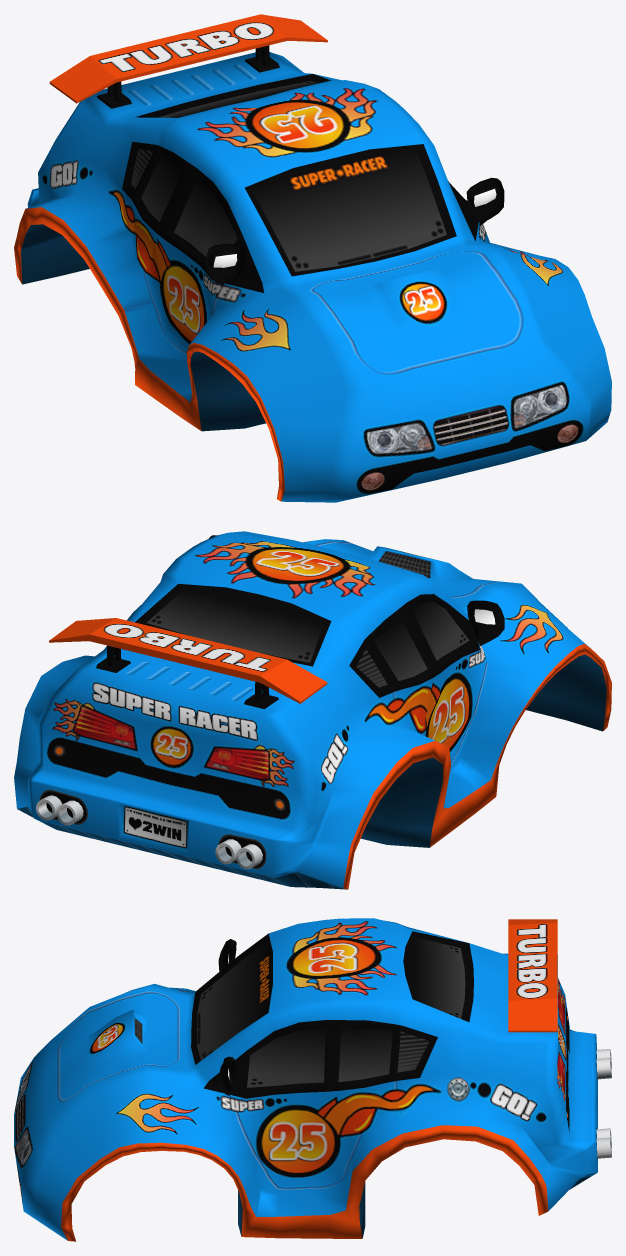
The model's file is tooncar.FBX.
3 views of the same model, one above another, from view 1: azimuth 30°, elevation 25°; view 2: azimuth 150°, elevation 25°; view 3: azimuth 270°, elevation 25° (orthographic). The views are drawn at different scales.
Visible parts, largest first — view 1: Body; view 2: Body; view 3: Body.
Boxes of the visible parts, box(x1,y1,x2,y2) form: Body: box(14, 14, 611, 502); Body: box(14, 531, 611, 889); Body: box(14, 918, 611, 1241).
Size of the model in its own units: 0.3227 by 0.2125 by 0.5177.
